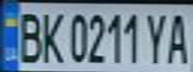0: (63, 8, 87, 64)
1: (121, 9, 145, 64), (106, 9, 127, 64)
2: (84, 9, 109, 64)
A: (163, 8, 193, 65)
B: (12, 8, 45, 64)
K: (36, 8, 66, 64)
Y: (142, 9, 172, 64)
